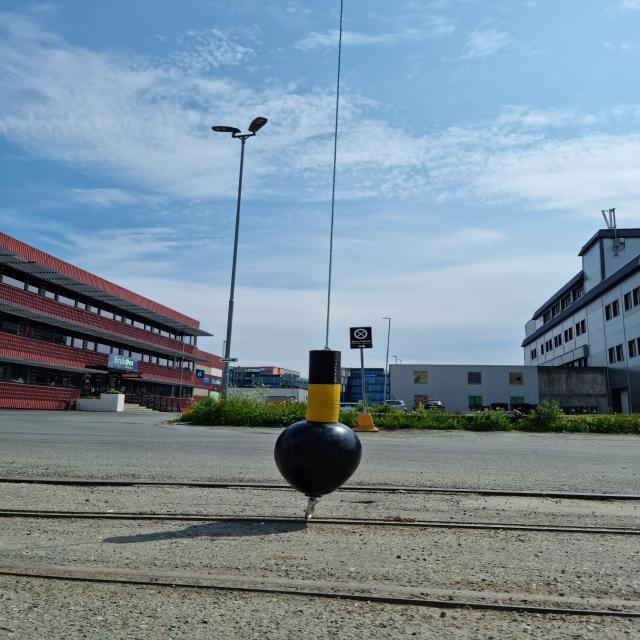east: (273, 350, 363, 497)
